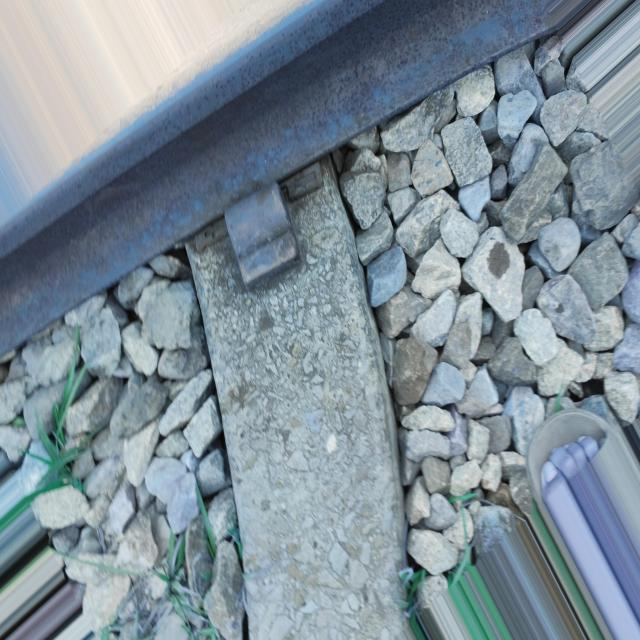Missing Fastener: (206, 157, 307, 308)
